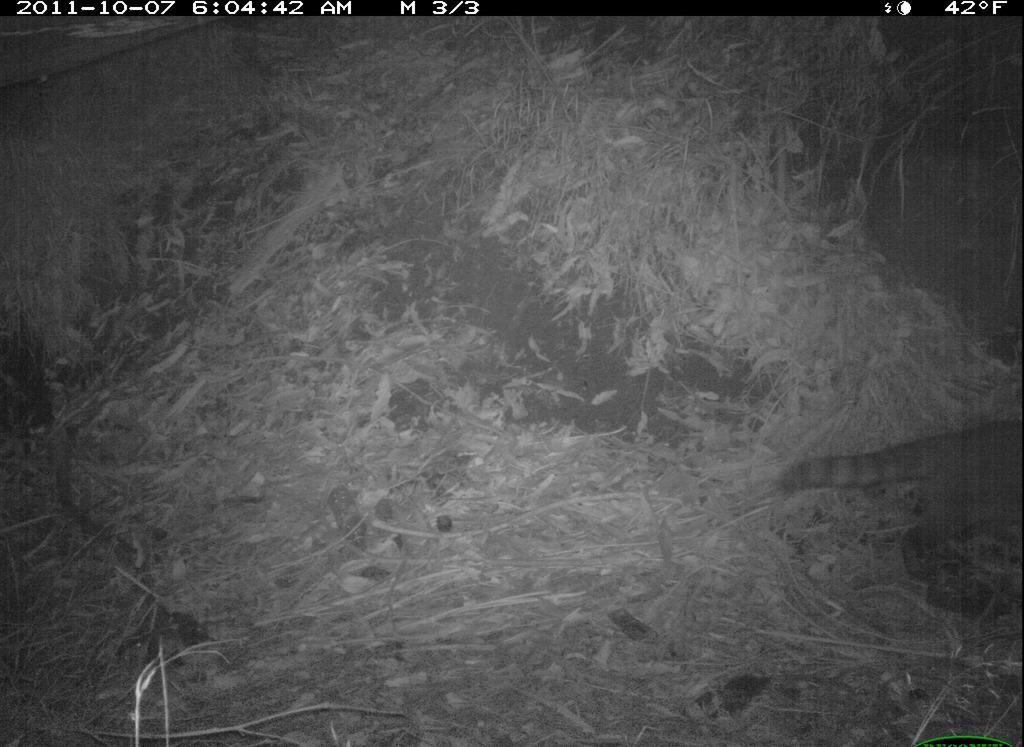raccoon: (779, 406, 1023, 601)
